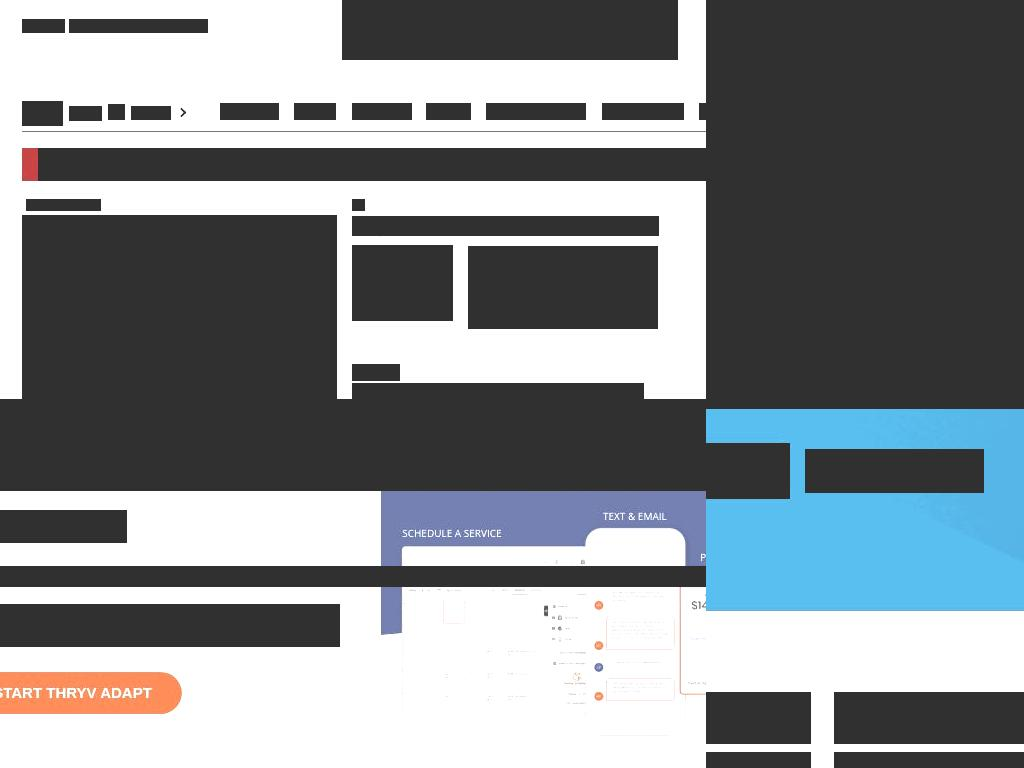button: (22, 215, 337, 399), (805, 449, 984, 493), (352, 245, 453, 321), (0, 672, 182, 714), (706, 443, 790, 499), (917, 370, 1024, 399), (786, 367, 917, 388), (479, 399, 579, 416), (164, 399, 258, 416), (52, 399, 145, 416), (277, 399, 370, 416), (598, 399, 677, 416), (389, 399, 460, 416), (972, 367, 1024, 388)
heading: (38, 148, 706, 181), (342, 0, 678, 60), (0, 566, 706, 587), (834, 692, 1024, 744), (352, 216, 659, 236), (706, 692, 811, 744), (352, 383, 644, 399), (22, 101, 63, 126)
image: (706, 0, 1024, 399), (0, 399, 706, 491), (22, 215, 337, 399), (786, 221, 917, 352), (352, 245, 453, 321), (972, 221, 1024, 352), (0, 510, 127, 543), (108, 104, 125, 120), (164, 399, 181, 414), (277, 399, 294, 414), (389, 399, 406, 414), (479, 399, 496, 414), (598, 399, 615, 414), (52, 399, 68, 414)
link: (486, 103, 586, 120), (602, 103, 684, 120), (352, 103, 412, 120), (220, 103, 279, 120), (426, 103, 471, 120), (294, 103, 336, 120), (813, 459, 838, 483), (352, 199, 365, 211)
text: (468, 246, 658, 329), (0, 604, 340, 647), (0, 604, 306, 621), (65, 630, 304, 647), (834, 752, 1024, 768), (786, 367, 917, 388), (845, 460, 974, 480), (706, 752, 811, 768), (500, 400, 580, 415), (124, 19, 208, 33), (185, 400, 258, 415), (972, 367, 1024, 388), (73, 400, 145, 415), (298, 400, 370, 415), (26, 199, 101, 211), (619, 400, 677, 415), (352, 364, 400, 381), (410, 400, 459, 415), (69, 19, 119, 33), (69, 106, 102, 121), (22, 19, 46, 33), (46, 19, 65, 33), (131, 106, 150, 120), (152, 106, 171, 120), (118, 19, 126, 33), (149, 106, 154, 120)
